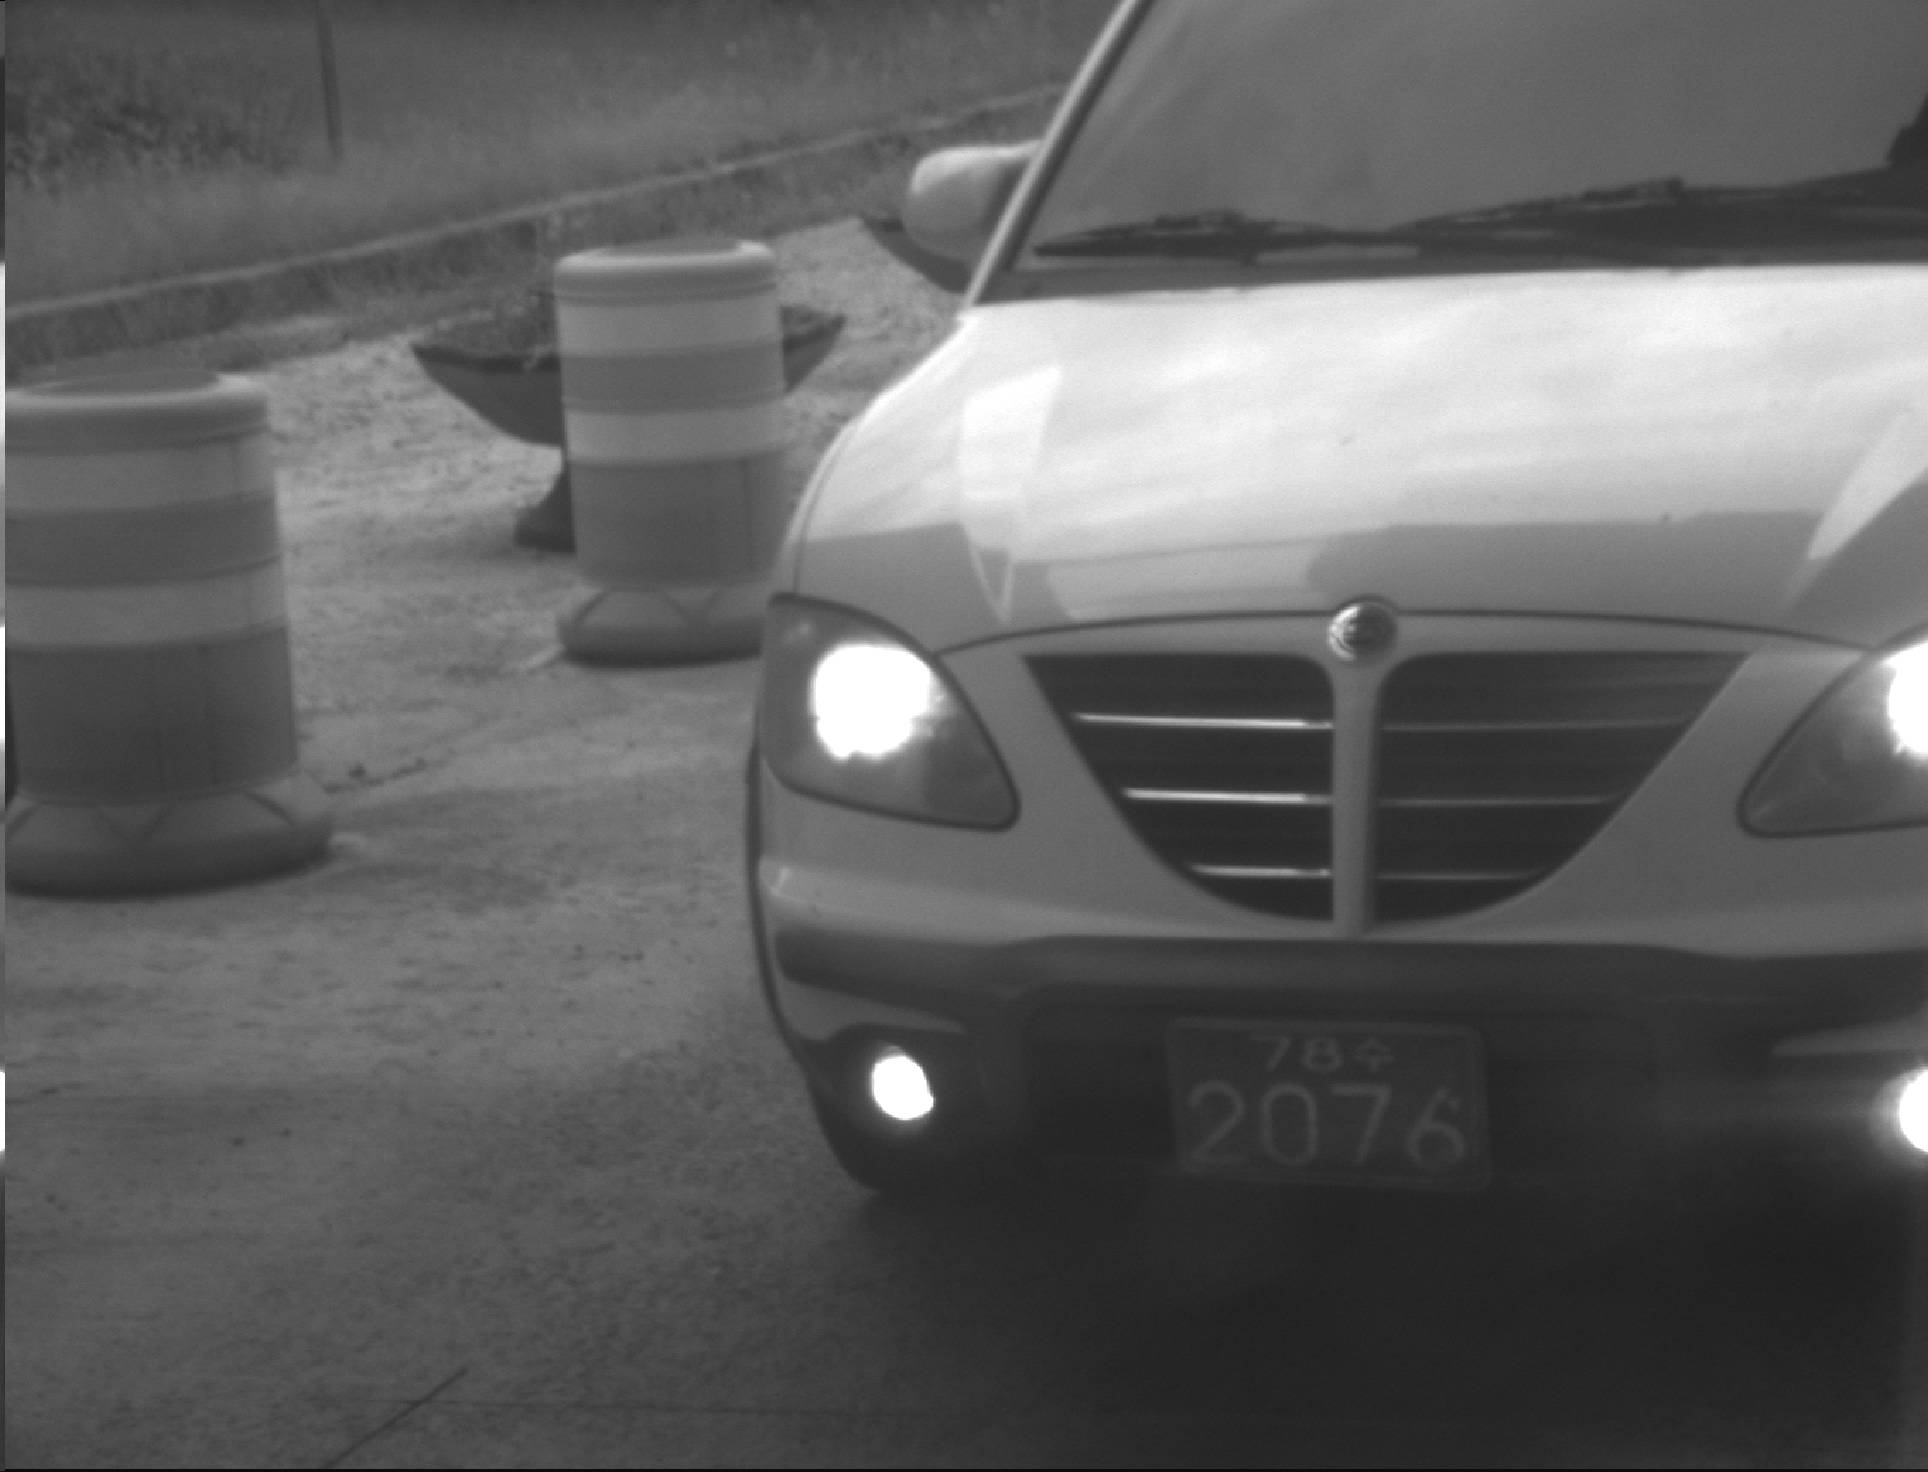car: (739, 1, 1923, 1281)
plate: (1157, 1013, 1495, 1199)
